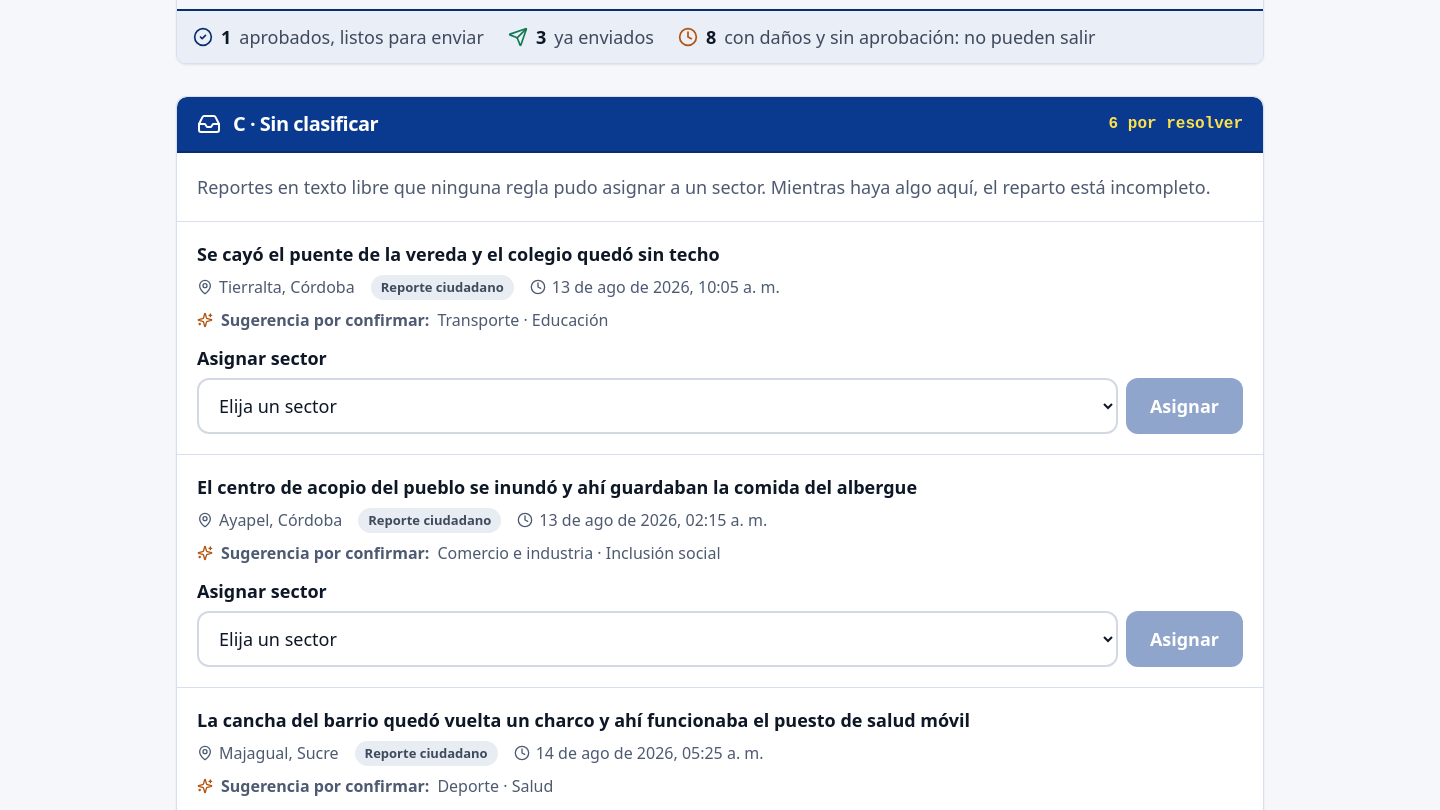
Test: PanelUngrd — panel del evento › asignar un sector a mano saca el daño de la bandeja y lo suma al reparto
(page scrolled)
Select "Transporte" in the dropdown labelled "Asignar sector" below "13 de ago de 2026, 10:05 a. m.": (657, 406) x1=197 y1=378 x2=1118 y2=434
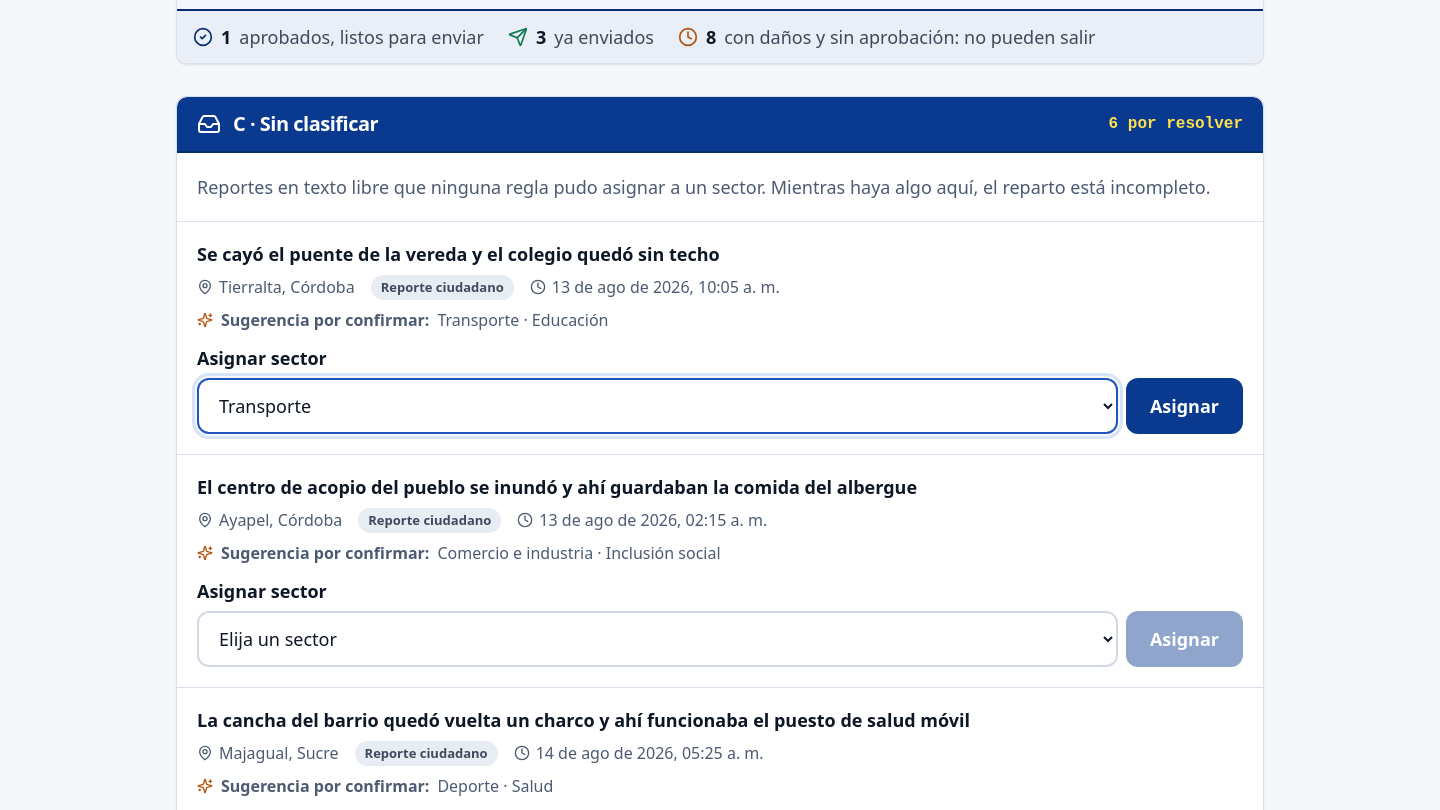
Click the 1st button "Asignar": (1184, 406) x1=1126 y1=378 x2=1243 y2=434
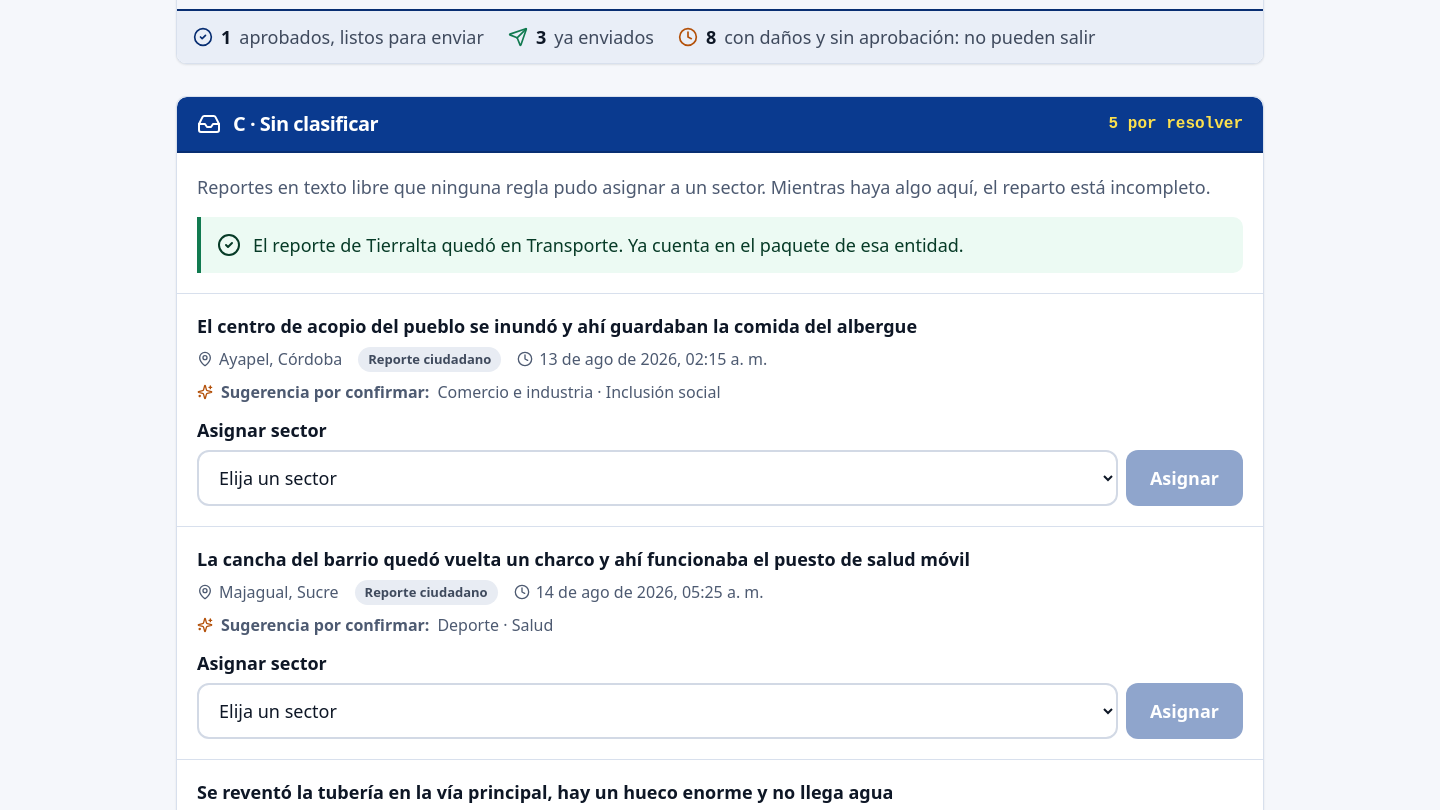
expect the number of dropdowns labelled "Asignar sector" is 5: met
expect the message shows "quedó en Transporte": met, box x1=253 y1=233 x2=964 y2=257
